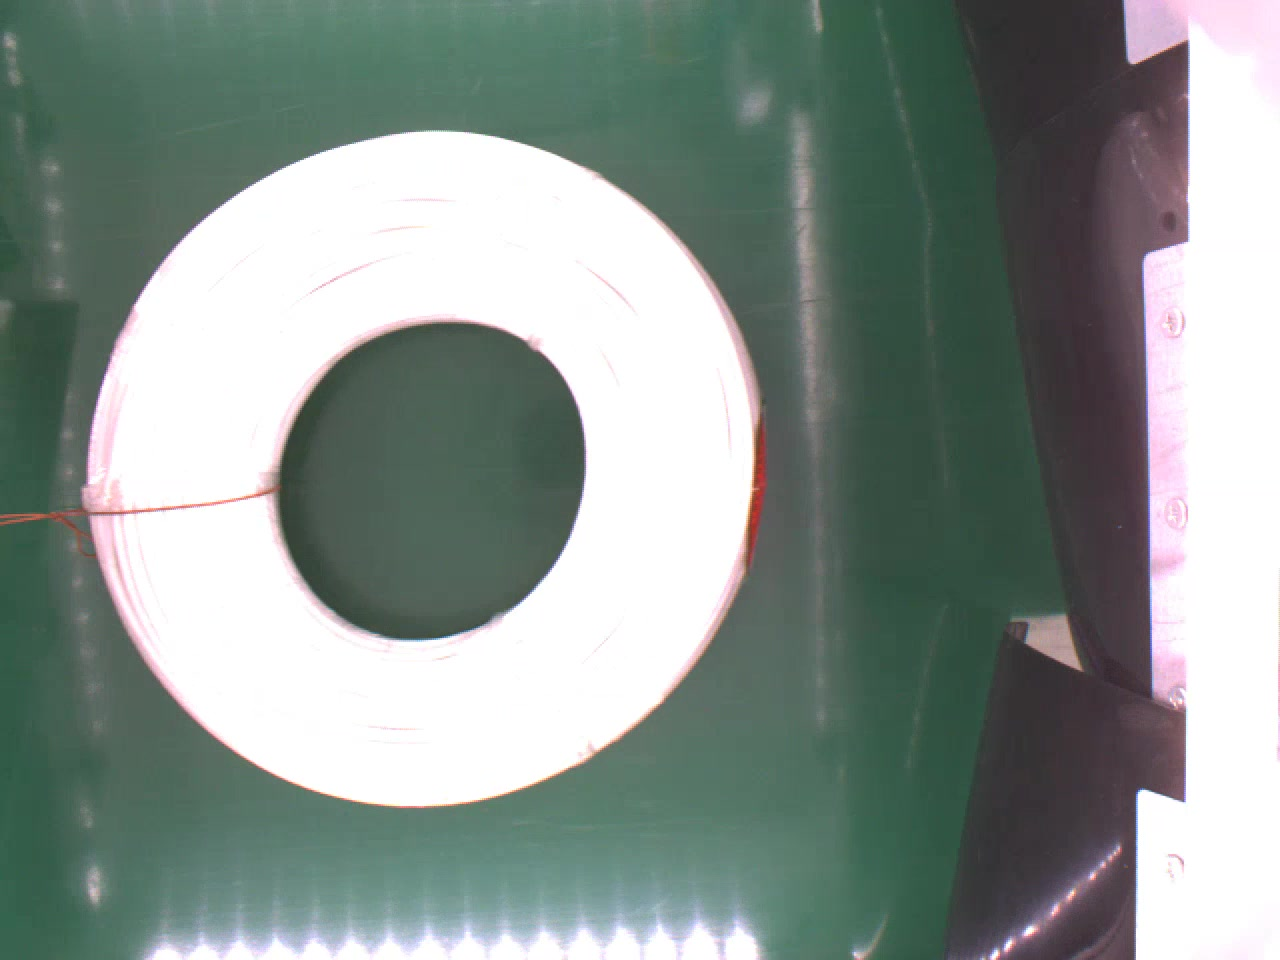white: (83, 124, 759, 806)
